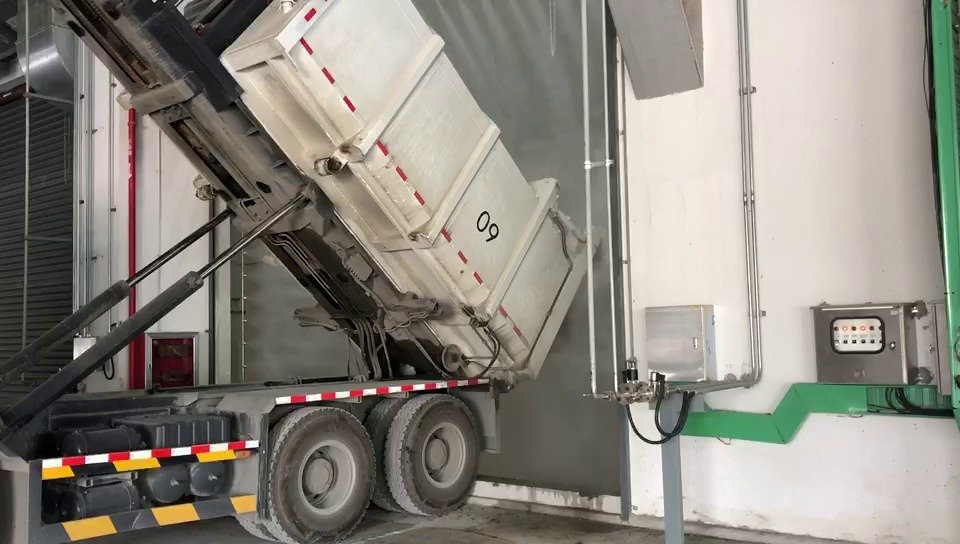truck: (0, 0, 594, 544)
